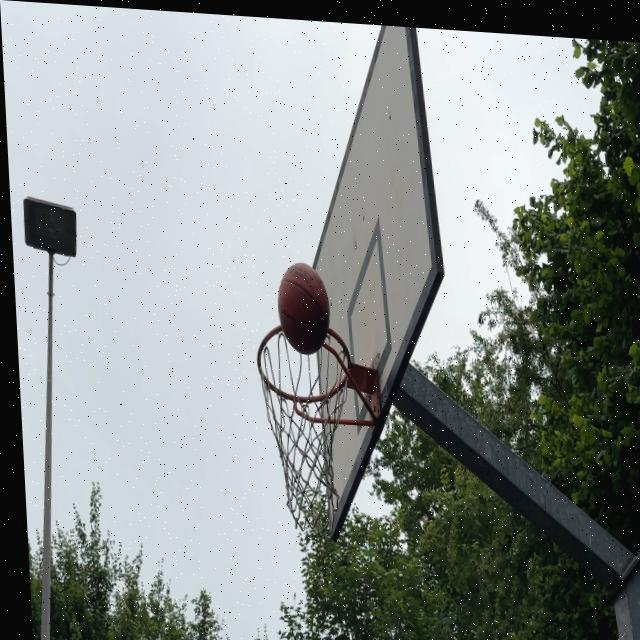Basketball: (278, 264, 333, 357)
